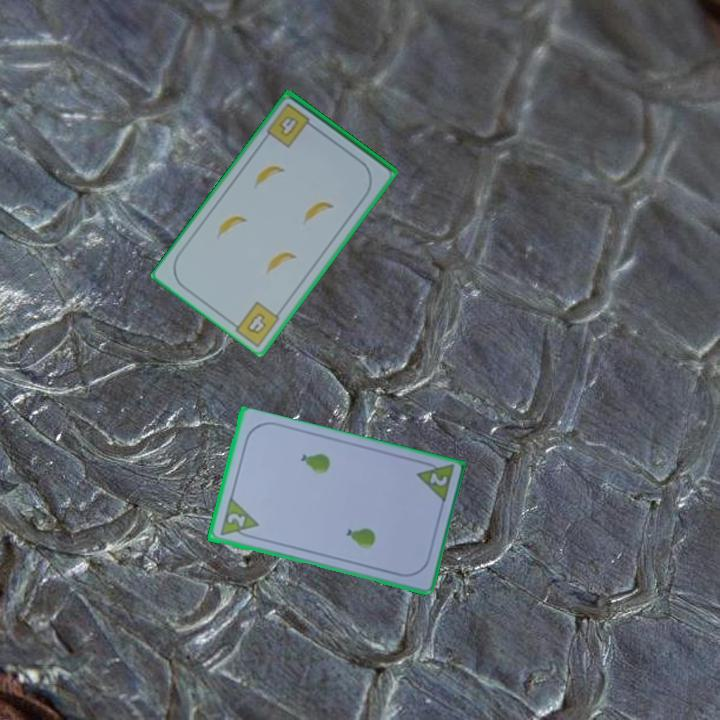2p: (412, 457, 456, 507), (216, 496, 261, 542)
4b: (263, 100, 319, 150), (243, 309, 270, 338)
